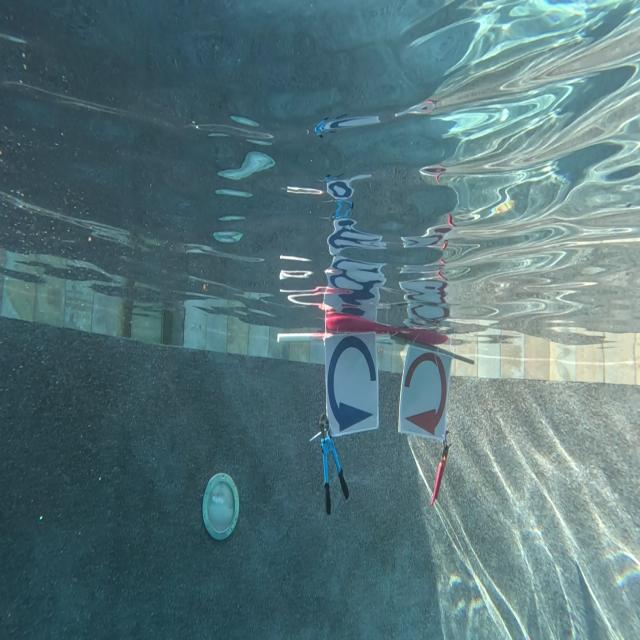blue_side: (325, 338, 378, 432)
red_side: (399, 347, 445, 438)
